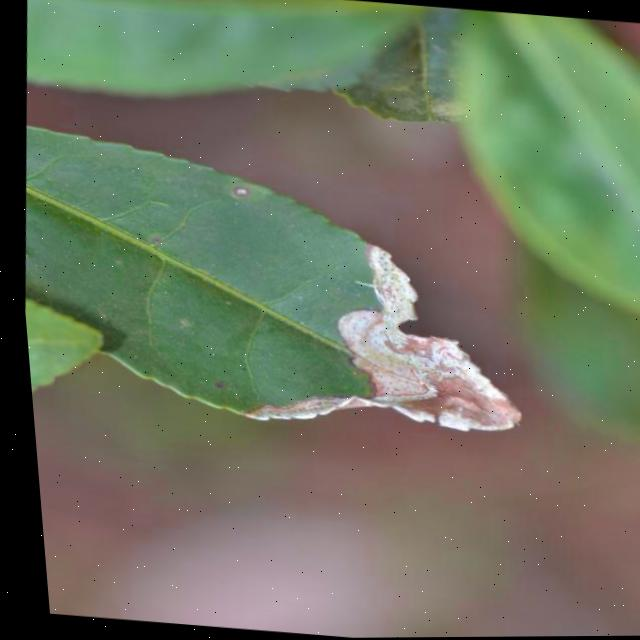Tea cloud leaf blight: (225, 232, 537, 446)
